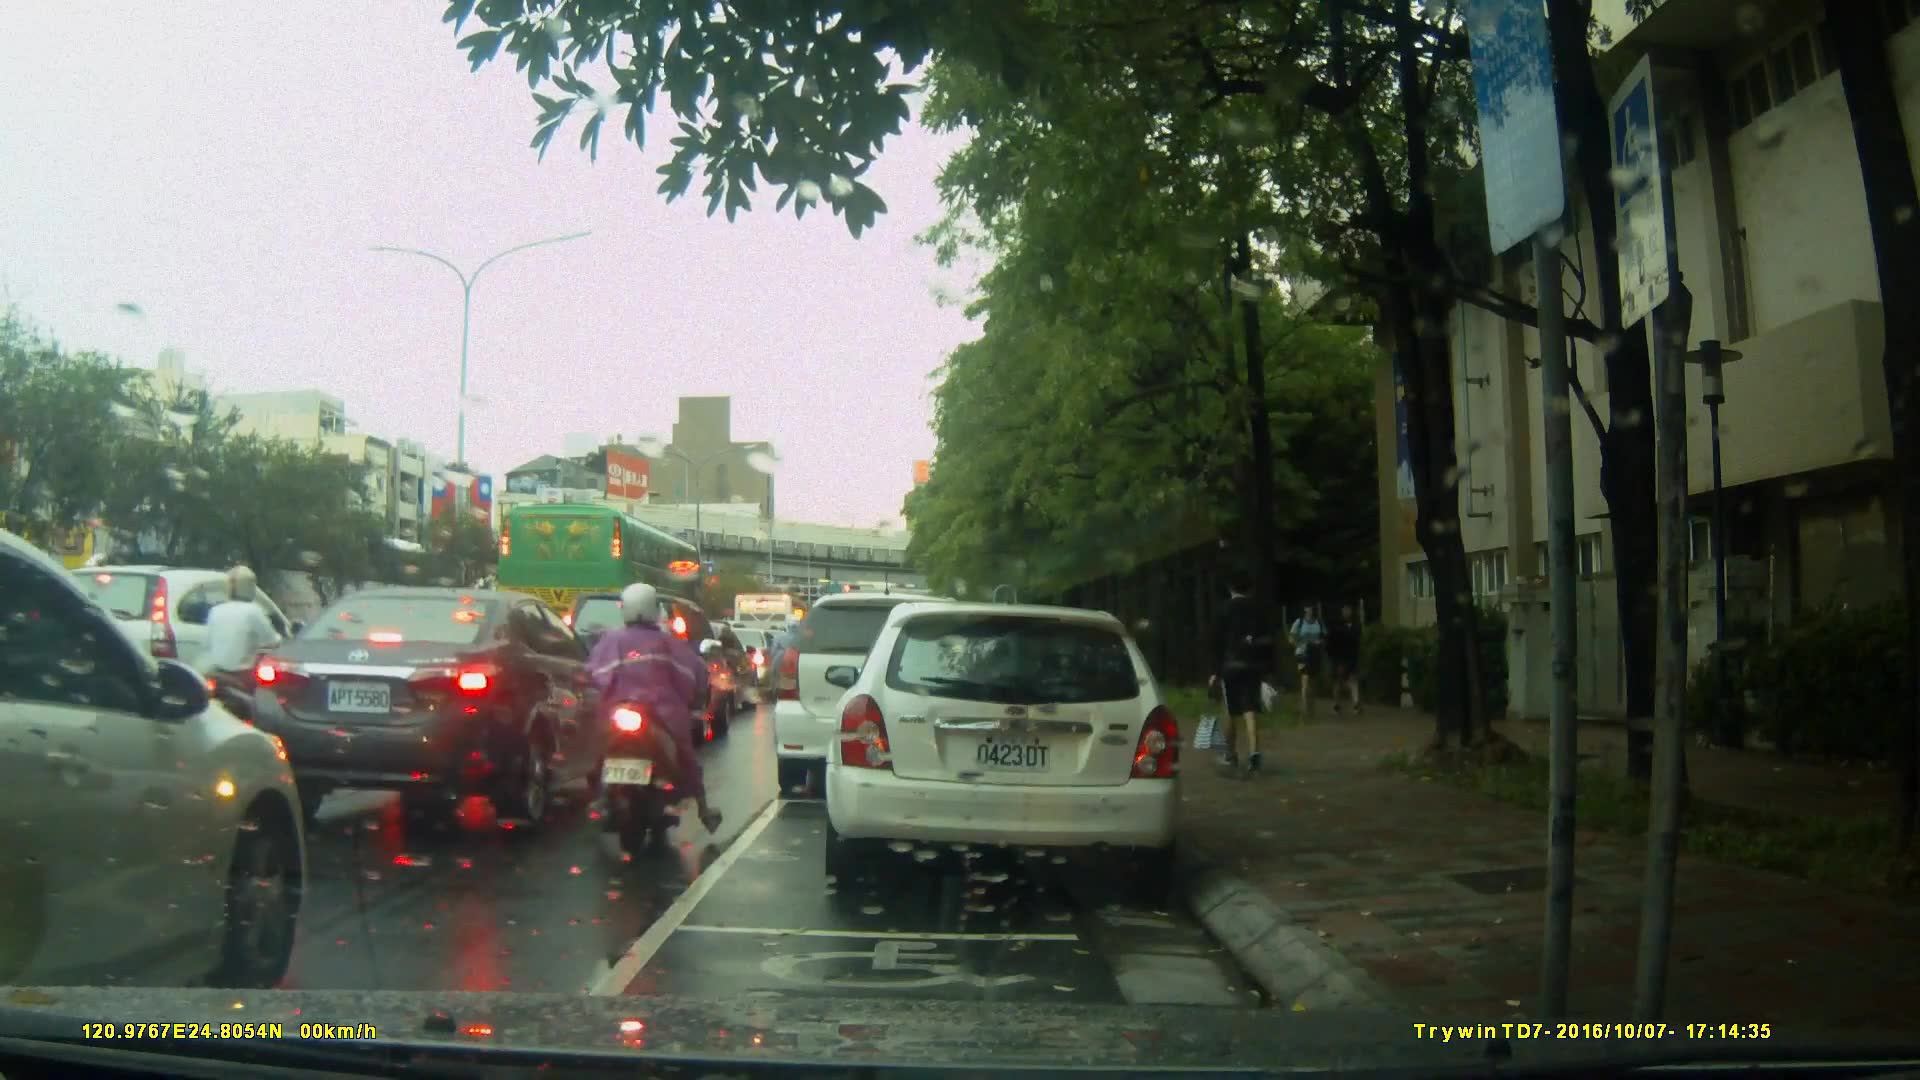pedestrian: (1204, 566, 1281, 775), (1290, 593, 1342, 718), (1327, 598, 1365, 711)
rider: (588, 580, 716, 857), (201, 567, 315, 780), (769, 612, 809, 710)
vehicle: (1, 522, 312, 987), (831, 592, 1196, 897), (241, 584, 627, 836), (20, 561, 313, 759), (770, 592, 999, 799), (495, 501, 707, 645), (546, 588, 732, 743)
